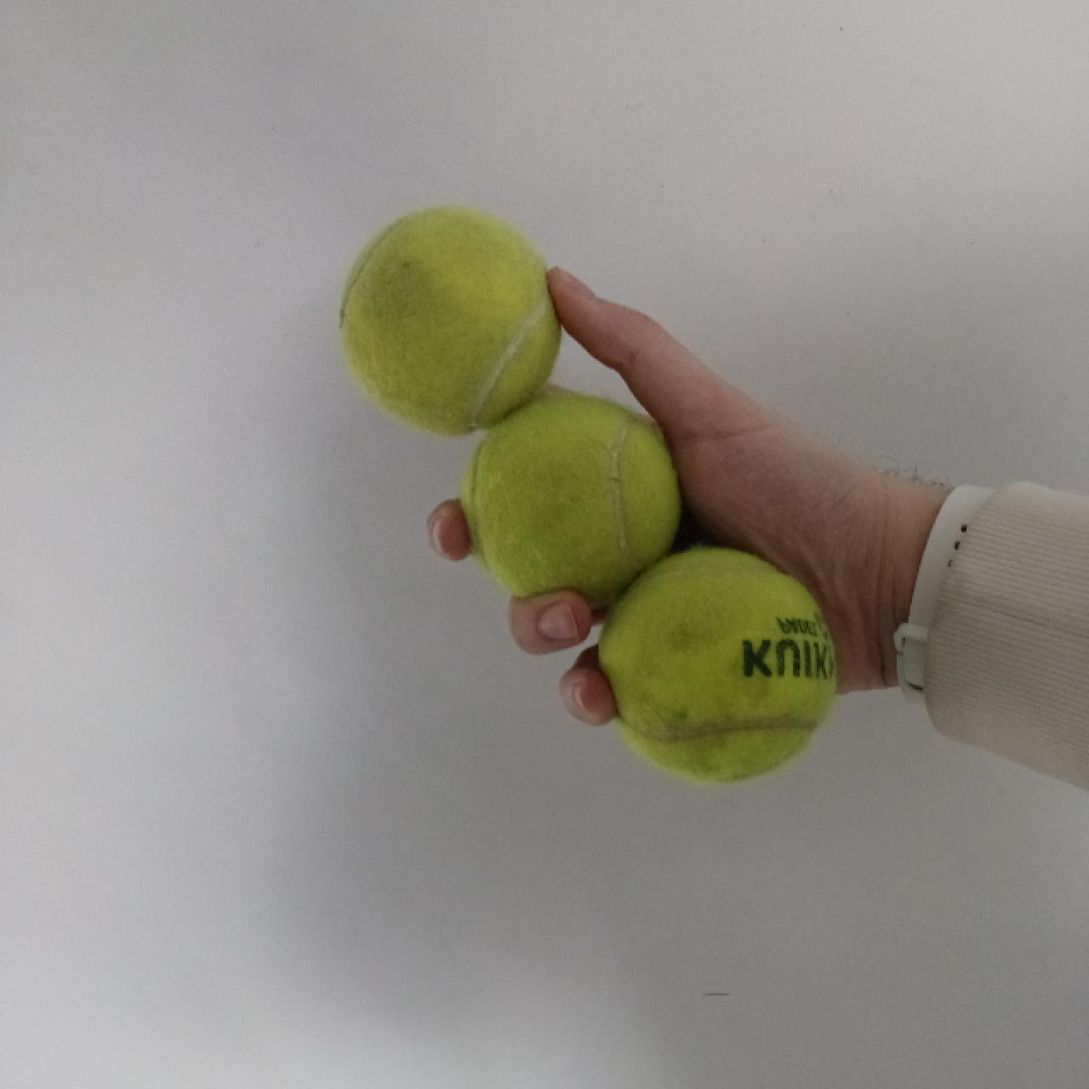tennis-ball: (593, 543, 840, 781), (340, 206, 560, 438), (462, 390, 682, 614)
